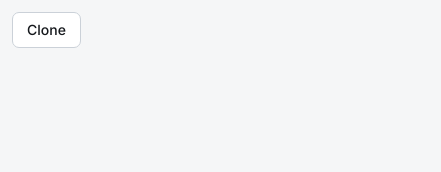
Test: CloneAssessmentButton › clones the assessment, showing Cloning… while it runs
Later steps or results of the test are not shown.
Click the button "Clone". click: (46, 30)
box: [12,12,81,48]
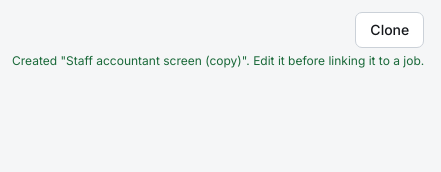
Expected: the button "Clone" is enabled, [355,12,424,48]
Result: the text "(copy)" is shown at [12,53,424,68]
